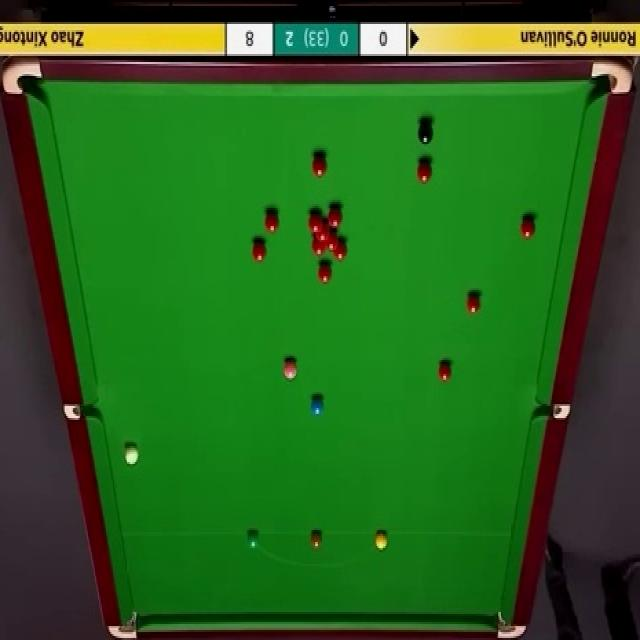black-ball: (416, 122, 434, 146)
blue-ball: (310, 393, 324, 418)
brown-ball: (310, 531, 323, 550)
green-ball: (246, 531, 259, 550)
pink-ball: (282, 356, 298, 378)
red-ball: (464, 288, 482, 319), (310, 152, 328, 178), (521, 216, 538, 242), (315, 262, 334, 284), (332, 238, 348, 264), (250, 240, 268, 262), (416, 160, 432, 184), (307, 210, 324, 232), (264, 210, 280, 233), (310, 232, 326, 255), (328, 206, 343, 230), (323, 230, 339, 250), (438, 362, 452, 380), (316, 223, 330, 240)
white-ball: (125, 442, 139, 467)
yellow-ball: (375, 531, 388, 550)
